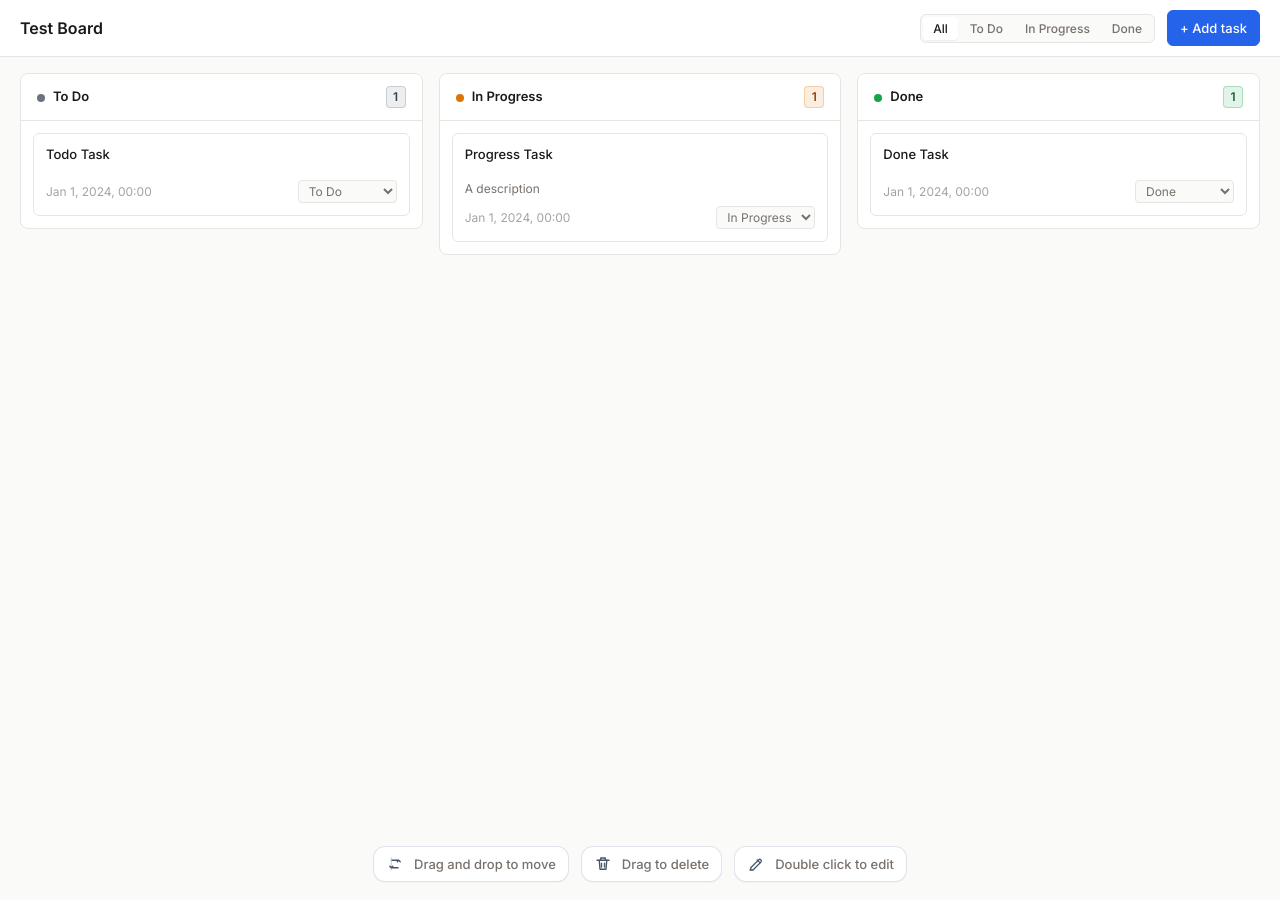
TaskBoard › opens the task creation dialog when Add task is clicked
Expected: the text "Todo Task" is shown, [46, 146, 110, 162]
Step 1. Click the button with aria-label "add a new task" → (1214, 28), box [1167, 10, 1260, 46]
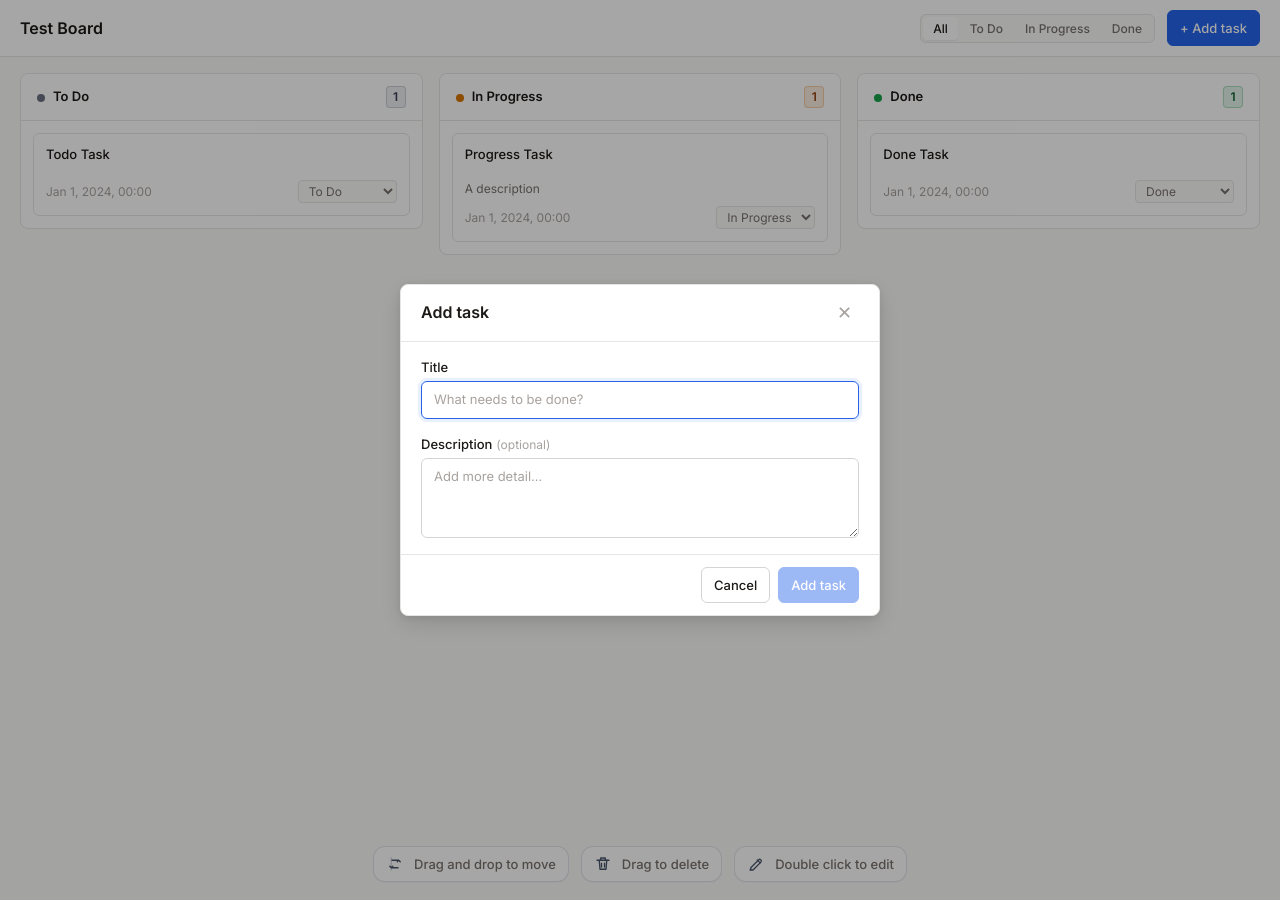
Expected: the dialog is shown, [400, 284, 880, 616]
Expected: the field labelled "Title" is shown, [421, 381, 859, 419]
